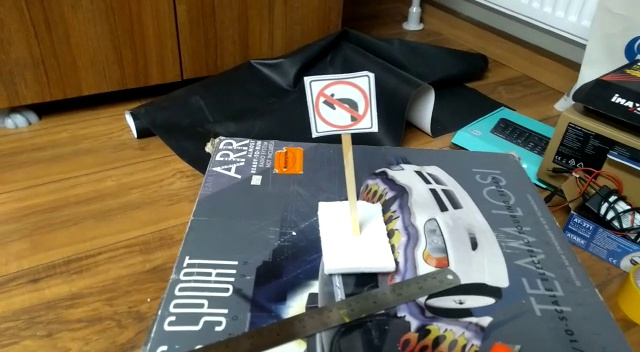sola_donulmez: (307, 80, 374, 130)
